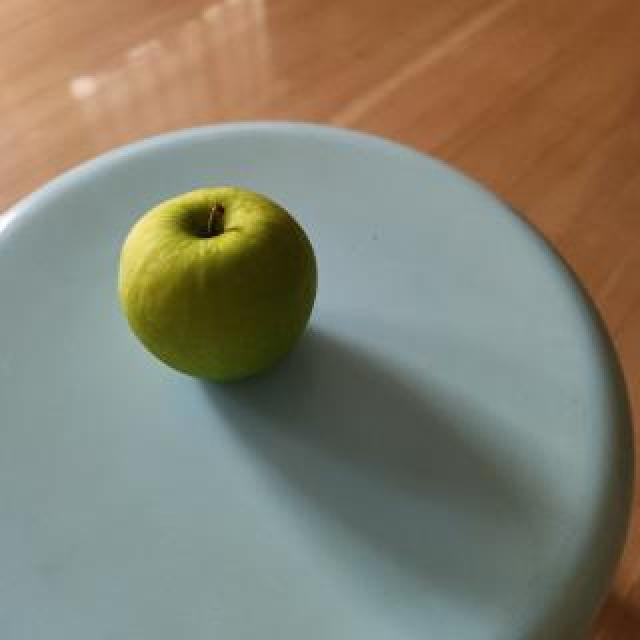Fresh Apple: (111, 187, 326, 388)
